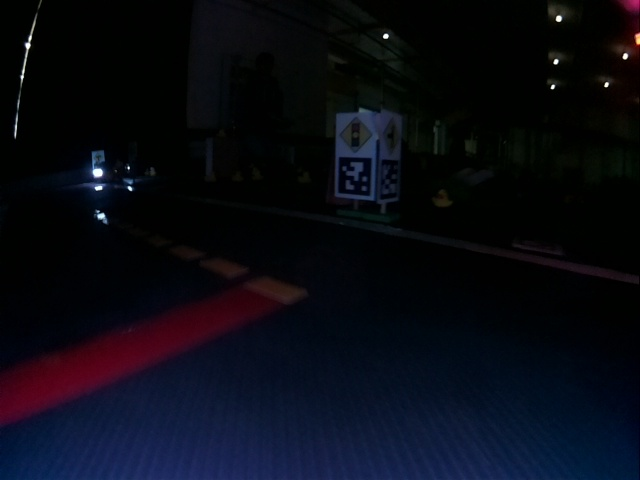Intersection sign: (382, 116, 400, 157)
QR code: (337, 157, 371, 193), (380, 163, 397, 196)
Signal sign: (339, 118, 370, 152)
